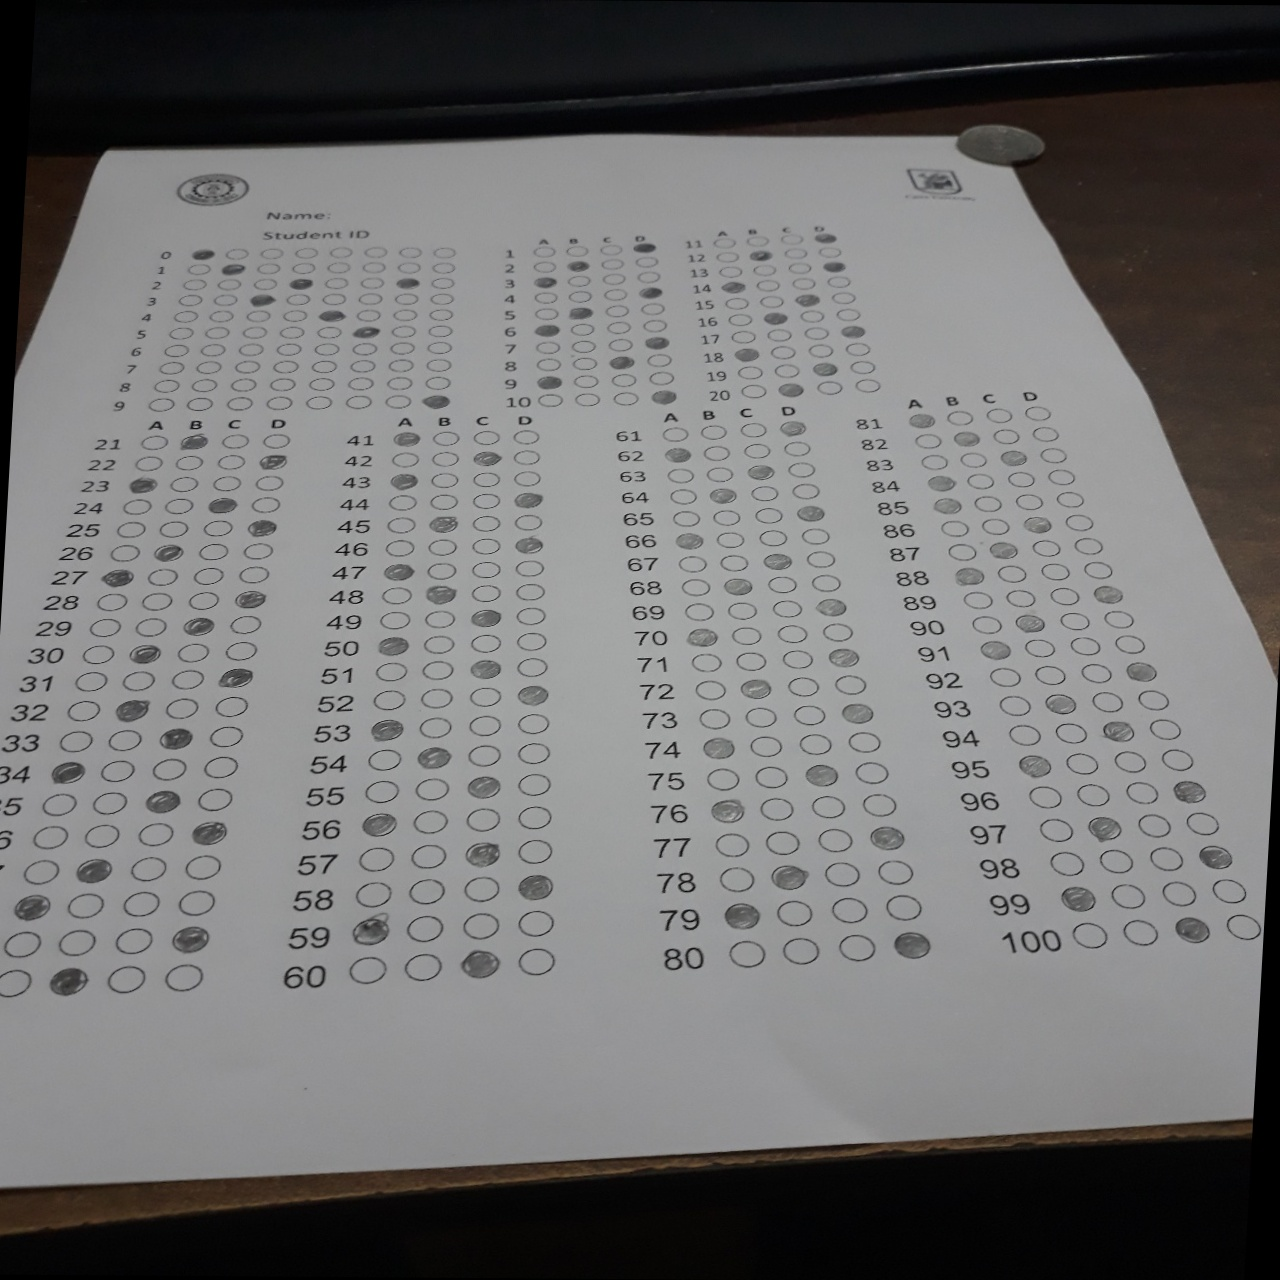not-c: (163, 962, 207, 990), (30, 822, 72, 852), (181, 852, 223, 881), (401, 952, 444, 980), (515, 947, 558, 975), (105, 965, 149, 993), (21, 857, 61, 887), (57, 928, 98, 958), (347, 956, 392, 983), (127, 853, 169, 881), (874, 858, 915, 886), (860, 790, 901, 818), (462, 874, 503, 903), (4, 930, 45, 958), (113, 927, 154, 955), (120, 888, 161, 917), (64, 891, 105, 919), (176, 888, 217, 917), (727, 939, 767, 967), (774, 899, 813, 927), (883, 893, 922, 921), (719, 865, 758, 893), (713, 831, 753, 859), (837, 933, 878, 960), (821, 860, 862, 887), (813, 826, 855, 853), (515, 910, 556, 937), (459, 912, 501, 939), (781, 937, 821, 964), (829, 896, 869, 922), (808, 794, 847, 821), (515, 839, 556, 865), (195, 787, 236, 812), (149, 756, 190, 782), (200, 754, 241, 779), (105, 727, 147, 753), (763, 830, 802, 857), (354, 880, 393, 907), (406, 878, 445, 904), (515, 804, 554, 830), (136, 822, 177, 846), (97, 758, 138, 783), (206, 724, 247, 749), (64, 699, 105, 723), (1224, 913, 1262, 939), (406, 915, 444, 941), (89, 791, 129, 816), (40, 792, 80, 817), (1121, 918, 1157, 945), (358, 846, 395, 872), (57, 729, 98, 753), (1098, 847, 1135, 873), (1109, 883, 1145, 908), (758, 796, 795, 822), (82, 824, 122, 847), (1159, 880, 1197, 905), (1210, 878, 1247, 903), (1073, 922, 1108, 948), (753, 765, 791, 789), (745, 734, 784, 757), (212, 694, 251, 717), (704, 767, 741, 791), (846, 729, 883, 754), (696, 706, 733, 730), (411, 809, 448, 833), (464, 806, 501, 831), (797, 731, 835, 755), (741, 706, 778, 729), (170, 668, 207, 692), (1148, 846, 1183, 871), (363, 779, 399, 804), (411, 844, 447, 869), (120, 669, 158, 692), (73, 669, 111, 692), (1048, 851, 1084, 874), (853, 760, 890, 783), (366, 748, 402, 771), (1137, 813, 1171, 838), (163, 697, 200, 720), (1075, 782, 1110, 805), (1125, 781, 1160, 804), (1039, 818, 1074, 842), (791, 703, 828, 726), (784, 675, 821, 697), (416, 716, 452, 738), (1185, 811, 1219, 835), (693, 678, 727, 701), (833, 672, 867, 695), (517, 772, 551, 796), (138, 588, 173, 611), (418, 688, 455, 709), (467, 714, 503, 735), (515, 713, 551, 734), (515, 742, 551, 763), (94, 591, 130, 612), (1114, 750, 1148, 772), (781, 647, 815, 669), (689, 651, 723, 673), (821, 621, 855, 644), (229, 614, 263, 636), (1051, 722, 1087, 743), (1028, 785, 1063, 806), (422, 633, 457, 654), (513, 629, 549, 651), (420, 659, 455, 680), (467, 686, 502, 707), (175, 642, 210, 663), (224, 640, 259, 661), (134, 615, 169, 636), (186, 588, 222, 610), (80, 644, 116, 663), (1114, 632, 1148, 653), (998, 694, 1032, 715), (1007, 724, 1041, 745), (1135, 689, 1169, 710), (1160, 749, 1194, 770), (730, 624, 764, 645), (775, 622, 809, 644), (415, 778, 449, 799), (513, 656, 549, 676), (468, 745, 503, 765), (1065, 753, 1098, 774), (250, 493, 282, 515), (372, 690, 408, 709), (1080, 662, 1114, 682), (1090, 692, 1124, 712), (1148, 719, 1182, 738), (735, 651, 769, 670), (375, 661, 409, 681), (88, 617, 122, 636), (961, 588, 994, 608), (1068, 635, 1101, 655), (989, 666, 1022, 686), (679, 577, 712, 597), (799, 525, 832, 545), (107, 543, 139, 563), (468, 633, 502, 652), (1023, 638, 1055, 658), (1034, 665, 1065, 685), (683, 601, 715, 621), (810, 574, 842, 594), (805, 549, 837, 568), (714, 529, 745, 549), (670, 508, 702, 527), (147, 567, 178, 587), (197, 542, 229, 561), (115, 519, 147, 539), (203, 517, 234, 537), (164, 496, 196, 516), (121, 496, 152, 516), (1039, 561, 1071, 580), (1058, 611, 1091, 629), (1101, 610, 1133, 628), (971, 615, 1003, 634), (726, 601, 758, 620), (767, 574, 799, 593), (678, 553, 708, 573), (719, 553, 749, 573), (669, 486, 700, 506), (996, 564, 1028, 583), (770, 598, 802, 617), (665, 465, 696, 484), (384, 516, 416, 535), (379, 611, 410, 629), (192, 566, 224, 585), (238, 565, 270, 584), (241, 542, 273, 560), (157, 519, 189, 538), (1005, 588, 1037, 606), (757, 527, 788, 546), (424, 610, 455, 628), (1049, 587, 1081, 605), (386, 493, 417, 511), (425, 561, 457, 579), (470, 585, 502, 602), (515, 606, 546, 624), (787, 459, 816, 478), (940, 519, 971, 537), (947, 543, 978, 560), (749, 484, 779, 502), (790, 482, 821, 499), (704, 465, 735, 483), (741, 442, 771, 459), (511, 428, 542, 445), (471, 537, 502, 554), (427, 539, 458, 556), (470, 515, 502, 531), (468, 561, 499, 578), (515, 583, 546, 599), (380, 586, 411, 602), (1039, 445, 1068, 463), (973, 495, 1002, 512), (1056, 490, 1085, 508), (1073, 537, 1102, 554), (712, 509, 741, 526), (919, 452, 949, 469), (958, 451, 988, 468), (1047, 469, 1077, 485), (980, 518, 1010, 535), (1083, 561, 1114, 578), (754, 508, 784, 524), (781, 440, 811, 456), (699, 423, 729, 440), (384, 539, 415, 556), (513, 513, 544, 530), (169, 475, 199, 491), (215, 452, 245, 469), (173, 455, 204, 471), (134, 456, 164, 472), (384, 393, 413, 410), (1064, 513, 1094, 530), (738, 422, 768, 438), (660, 425, 689, 442), (472, 429, 502, 445), (430, 450, 459, 467), (512, 449, 542, 465), (429, 493, 458, 510), (515, 559, 544, 576), (212, 475, 241, 491), (254, 474, 284, 490), (138, 435, 168, 451), (1007, 471, 1037, 486), (966, 474, 996, 489), (1032, 539, 1062, 554), (429, 472, 459, 488), (945, 409, 973, 425), (992, 428, 1020, 444), (392, 451, 420, 468), (512, 470, 540, 486), (261, 433, 290, 449), (702, 445, 731, 461), (433, 430, 462, 445), (471, 492, 501, 508), (222, 433, 251, 448), (985, 407, 1012, 423), (915, 433, 942, 449), (1015, 493, 1043, 509), (472, 471, 501, 486), (610, 372, 636, 387), (572, 373, 599, 388), (816, 380, 843, 395), (849, 359, 876, 374), (1032, 425, 1058, 441), (345, 394, 373, 408), (268, 377, 297, 392), (230, 377, 258, 392), (226, 396, 254, 410), (190, 377, 218, 392), (852, 377, 880, 392), (536, 393, 561, 408), (574, 392, 600, 407), (647, 370, 673, 386), (642, 318, 668, 333), (1024, 404, 1050, 420), (238, 342, 265, 356), (234, 359, 261, 373), (347, 376, 374, 390), (188, 397, 215, 411), (149, 397, 176, 411), (844, 342, 871, 356), (772, 363, 799, 377), (737, 365, 764, 379), (741, 383, 768, 397), (427, 324, 452, 338), (425, 358, 451, 372), (425, 376, 451, 390), (272, 360, 300, 373), (387, 359, 415, 372), (308, 377, 336, 390), (306, 396, 334, 409), (265, 396, 293, 409), (154, 379, 182, 392), (612, 392, 638, 406), (536, 358, 561, 372), (606, 320, 632, 334), (640, 301, 666, 315), (158, 361, 185, 374), (195, 360, 222, 373), (200, 343, 227, 356), (275, 343, 302, 356), (314, 342, 341, 355), (311, 360, 338, 373), (350, 359, 377, 372), (352, 342, 379, 355), (390, 341, 417, 354), (568, 324, 595, 336), (359, 292, 383, 306), (360, 275, 384, 290), (646, 353, 670, 367), (571, 339, 595, 353), (731, 329, 756, 343), (808, 343, 832, 358), (431, 246, 457, 259), (397, 245, 423, 258), (427, 341, 452, 354), (393, 309, 418, 322), (325, 275, 350, 288), (224, 247, 250, 260), (188, 263, 213, 275), (163, 343, 189, 356), (392, 325, 417, 338), (571, 356, 597, 369), (535, 341, 560, 354), (605, 304, 631, 316), (604, 288, 629, 301), (568, 290, 594, 302), (535, 291, 560, 304), (533, 307, 559, 320), (636, 271, 662, 284), (835, 308, 860, 321), (799, 309, 825, 322), (767, 328, 792, 341), (358, 308, 381, 322), (433, 261, 457, 274), (430, 292, 455, 305), (429, 308, 454, 321), (394, 292, 418, 305), (218, 277, 243, 290), (215, 294, 239, 307), (173, 309, 198, 322), (387, 376, 411, 389), (607, 338, 632, 350), (566, 274, 591, 287), (602, 272, 627, 285), (712, 236, 736, 248), (831, 291, 856, 304), (760, 295, 784, 308), (727, 313, 751, 326), (804, 326, 829, 339), (770, 345, 795, 358), (256, 263, 282, 274), (282, 309, 309, 321), (316, 326, 343, 338), (241, 326, 268, 338), (362, 260, 384, 274), (363, 245, 387, 258), (292, 263, 318, 274), (293, 247, 319, 259), (258, 247, 284, 259), (209, 309, 234, 321), (246, 309, 272, 321), (279, 326, 305, 338), (205, 326, 231, 338), (169, 326, 195, 338), (635, 256, 659, 268), (791, 277, 815, 290), (397, 261, 422, 273), (326, 260, 350, 272), (322, 292, 347, 304), (286, 293, 311, 305), (254, 278, 279, 290), (183, 278, 207, 290), (178, 293, 203, 305), (744, 234, 769, 246), (779, 233, 804, 245), (787, 263, 811, 274), (753, 264, 777, 275), (433, 275, 455, 288), (726, 297, 748, 309), (329, 245, 353, 257), (601, 257, 625, 268), (599, 244, 622, 256), (715, 251, 738, 263), (828, 275, 851, 287), (535, 261, 557, 273), (818, 245, 840, 257), (755, 279, 779, 290), (717, 266, 741, 277), (533, 246, 556, 257), (566, 245, 588, 256), (784, 248, 806, 259)
taken-c: (169, 925, 210, 955), (12, 892, 54, 921), (47, 967, 87, 998), (459, 949, 501, 979), (350, 915, 392, 945), (73, 855, 114, 884), (190, 818, 231, 847), (155, 724, 196, 754), (143, 787, 183, 816), (49, 757, 89, 787), (515, 872, 554, 900), (891, 930, 931, 958), (461, 840, 502, 867), (1171, 915, 1212, 942), (1194, 843, 1235, 870), (722, 901, 762, 928), (1085, 813, 1125, 840), (1169, 777, 1208, 804), (1014, 751, 1054, 778), (1058, 884, 1097, 911), (113, 697, 154, 722), (217, 665, 256, 690), (359, 812, 399, 837), (1122, 658, 1159, 683), (700, 734, 736, 760), (709, 798, 744, 824), (1099, 719, 1138, 742), (978, 636, 1013, 662), (769, 865, 806, 888), (1042, 692, 1080, 715), (839, 701, 874, 726), (125, 642, 162, 666), (803, 763, 839, 787), (869, 826, 905, 850), (368, 719, 406, 741), (416, 745, 452, 768), (467, 776, 503, 798), (183, 615, 217, 638), (1014, 612, 1048, 634), (1090, 583, 1124, 605), (98, 567, 134, 588), (234, 588, 268, 610), (813, 595, 847, 617), (953, 566, 985, 588), (382, 561, 416, 581), (376, 635, 410, 655), (515, 685, 549, 704), (988, 539, 1020, 560), (424, 585, 457, 605), (468, 608, 501, 628), (469, 659, 502, 679), (686, 626, 719, 646), (828, 647, 860, 667), (152, 543, 184, 563), (1022, 515, 1054, 535), (738, 679, 770, 697), (125, 476, 158, 493), (207, 496, 240, 513), (721, 578, 754, 595), (931, 497, 964, 515), (247, 519, 279, 537), (258, 451, 290, 469), (925, 474, 956, 491), (998, 449, 1029, 467), (178, 433, 211, 449), (795, 504, 828, 520), (951, 429, 983, 445), (388, 474, 418, 491), (472, 449, 503, 467), (429, 515, 459, 532), (512, 535, 543, 552), (762, 552, 794, 568), (906, 411, 938, 428), (513, 492, 544, 509), (745, 464, 776, 481), (709, 486, 738, 503), (649, 389, 678, 406), (778, 418, 806, 435), (663, 445, 692, 462), (393, 430, 422, 445), (535, 375, 564, 390), (674, 533, 703, 549), (644, 335, 670, 350), (608, 355, 636, 369), (421, 394, 451, 407), (535, 324, 561, 338), (189, 247, 218, 260), (353, 325, 381, 338), (733, 347, 758, 361), (811, 362, 837, 376), (220, 263, 247, 275), (567, 306, 594, 319), (533, 275, 560, 288), (778, 382, 803, 396), (394, 275, 420, 288), (720, 280, 745, 293), (839, 325, 865, 338), (319, 309, 347, 321), (248, 294, 275, 306), (288, 278, 315, 290), (565, 259, 592, 271), (636, 286, 663, 298), (747, 248, 772, 260), (812, 231, 838, 243), (821, 260, 846, 272), (762, 312, 787, 324), (632, 241, 658, 252), (794, 295, 819, 306)
